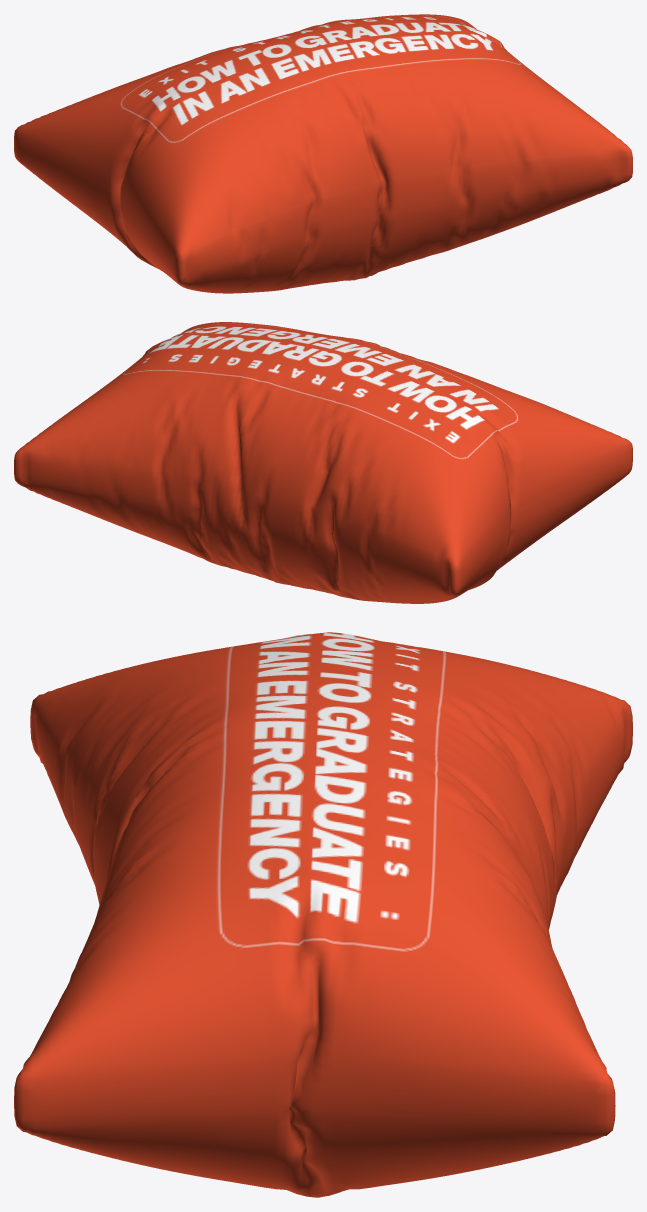
Rendered from pillow.glb.
3 renders of one model, top to bottom at view 1: azimuth 30°, elevation 25°; view 2: azimuth 150°, elevation 25°; view 3: azimuth 270°, elevation 25°, orthographic. The views are drawn at different scales.
Visible parts, largest first — view 1: Cube; view 2: Cube; view 3: Cube.
Boxes of the visible parts, x1,y1,x2,y2 form: Cube: [14, 14, 632, 293]; Cube: [14, 322, 632, 603]; Cube: [14, 632, 632, 1197].
Bounding box in the file's own units: 5.57 × 2.59 × 3.76.
1 material, 1 textured.
